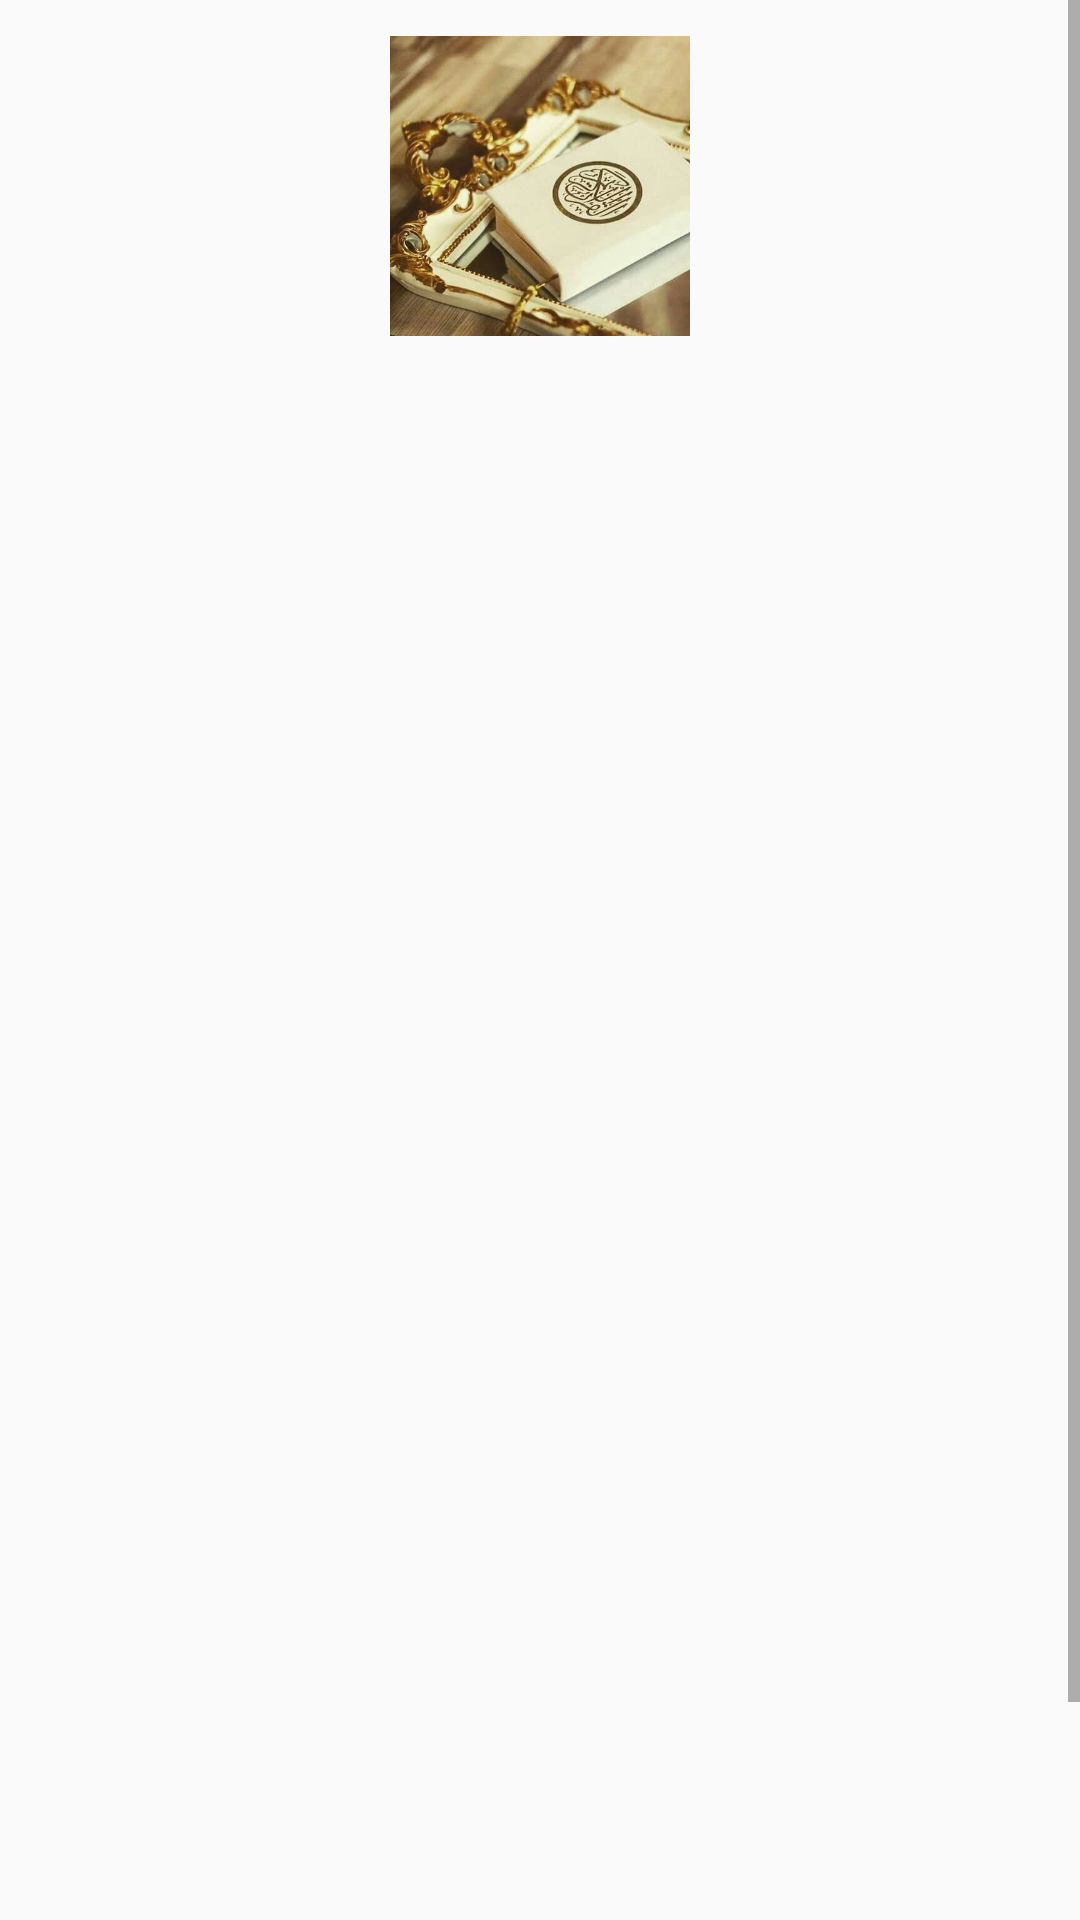

Where to tap for icons on this 1080 x 1920 app screen, as (x=x, y=y):
intro sura: (x=540, y=186)
